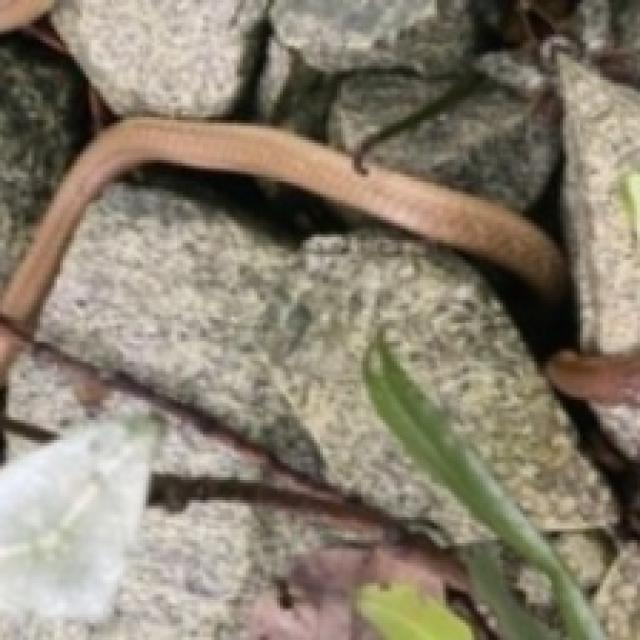king cobra: (0, 117, 574, 383)
